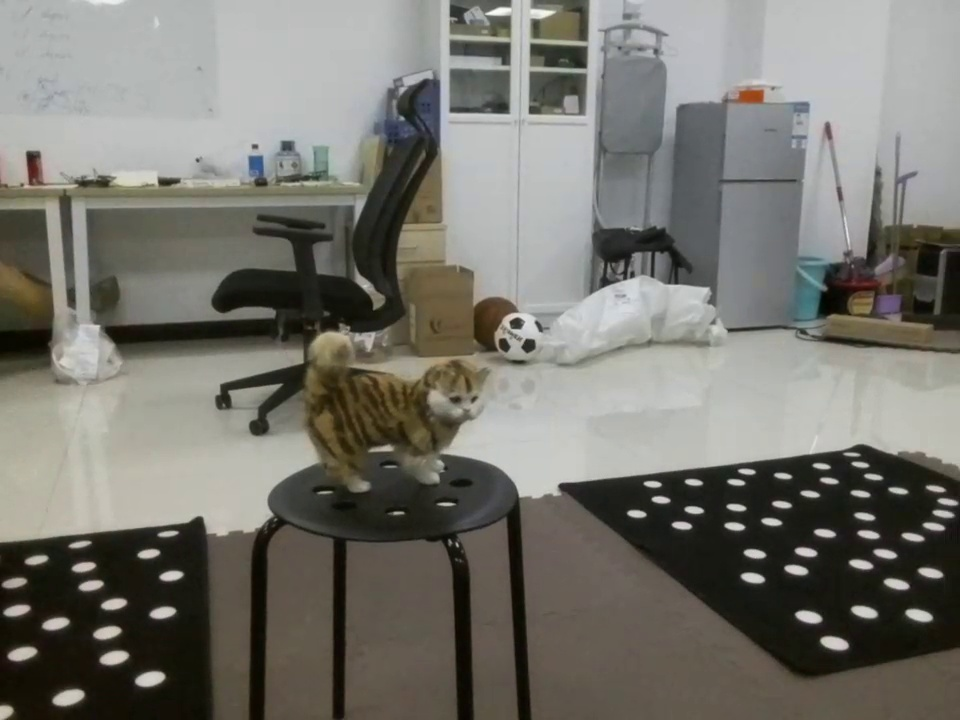cat: (286, 332, 512, 497)
